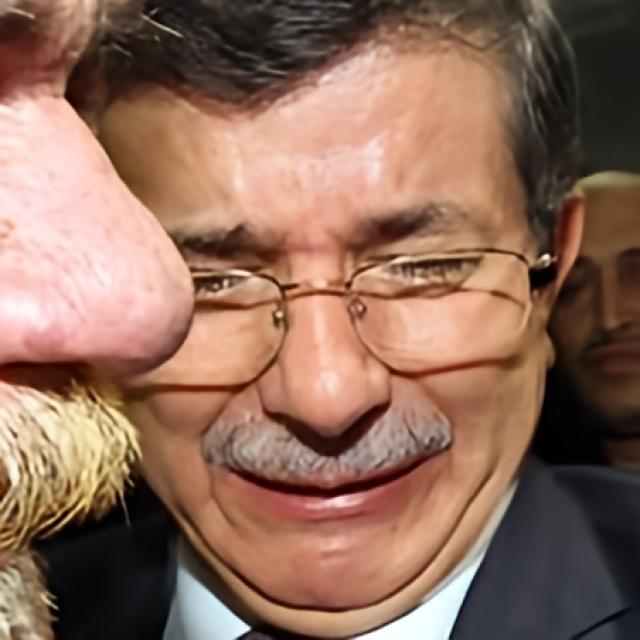sad: (96, 36, 542, 604)
